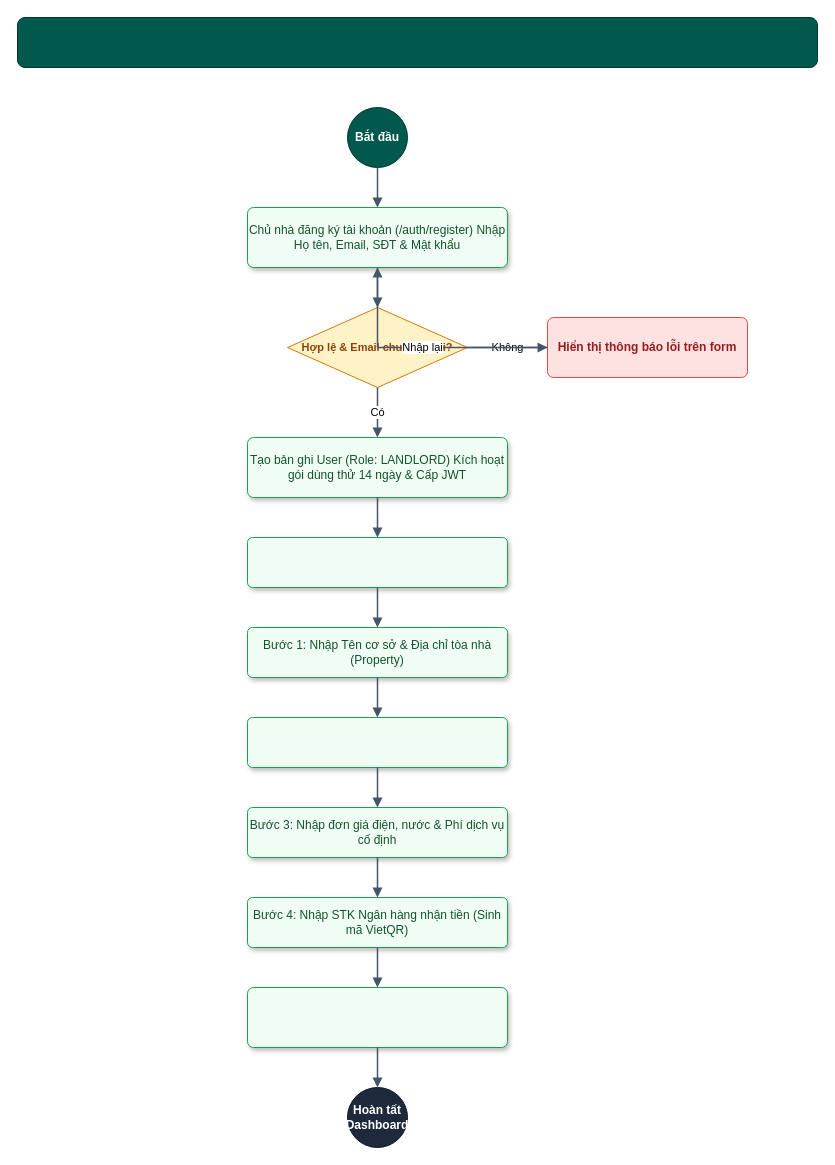
Some shapes in this 835 by 1165 pixel diagram are drawn without their labels. The centre of each missing label's shape, as x and y in pixels:
"Bước 2: Thiết lập số tầng, số phòng & Giá thuê cơ bản" goes at point 378,743.
"Chuyển vào Wizard Onboarding 4 bước" goes at point 378,563.
"Hệ thống tự động sinh danh mục Phòng (Rooms) Trạng thái ban đầu: VACANT" goes at point 378,1018.
"QUY TRÌNH NGHIỆP VỤ: 2. ACTIVITY - DANG KY & ONBOARDING" goes at point 417,42.
